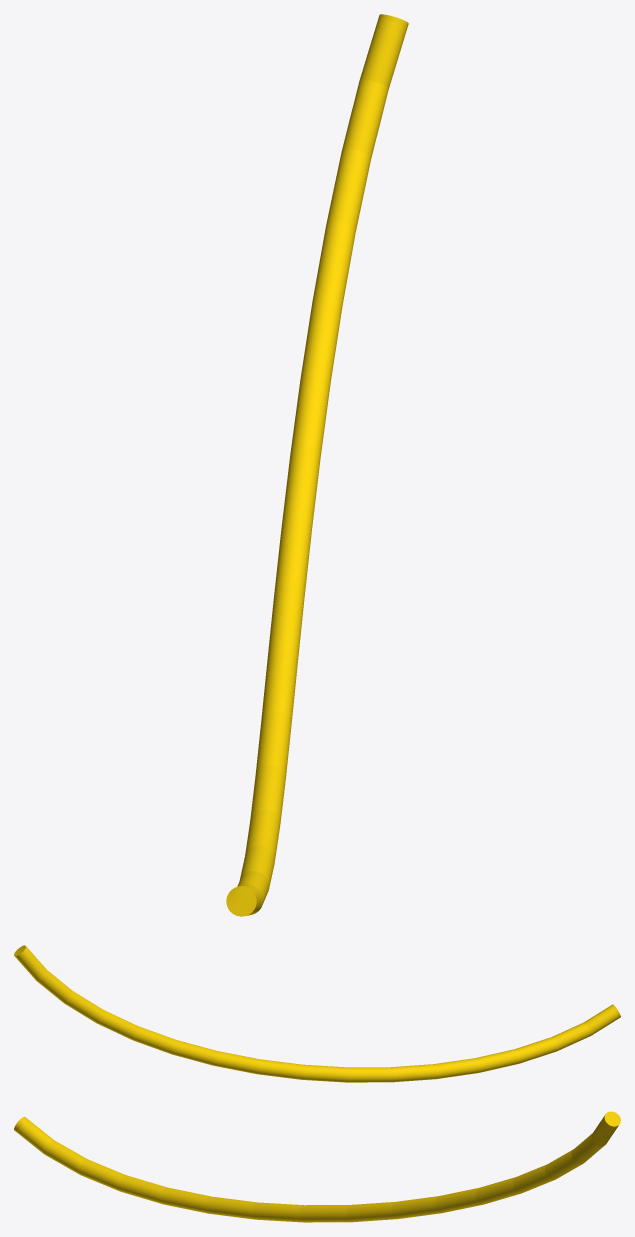
Rendered from Event_421115418_track_87.fbx.
3 views of the same model, one above another, from view 1: azimuth 30°, elevation 25°; view 2: azimuth 150°, elevation 25°; view 3: azimuth 270°, elevation 25° (orthographic). The views are drawn at different scales.
Parts seen in each view (by area): view 1: Model; view 2: Model; view 3: Model.
Part boxes in pixels (<box>): Model: <box>226,14,408,916</box>; Model: <box>14,945,620,1082</box>; Model: <box>14,1111,620,1222</box>.
Size of the model in its own units: 1.05 by 0.5932 by 1.39.
